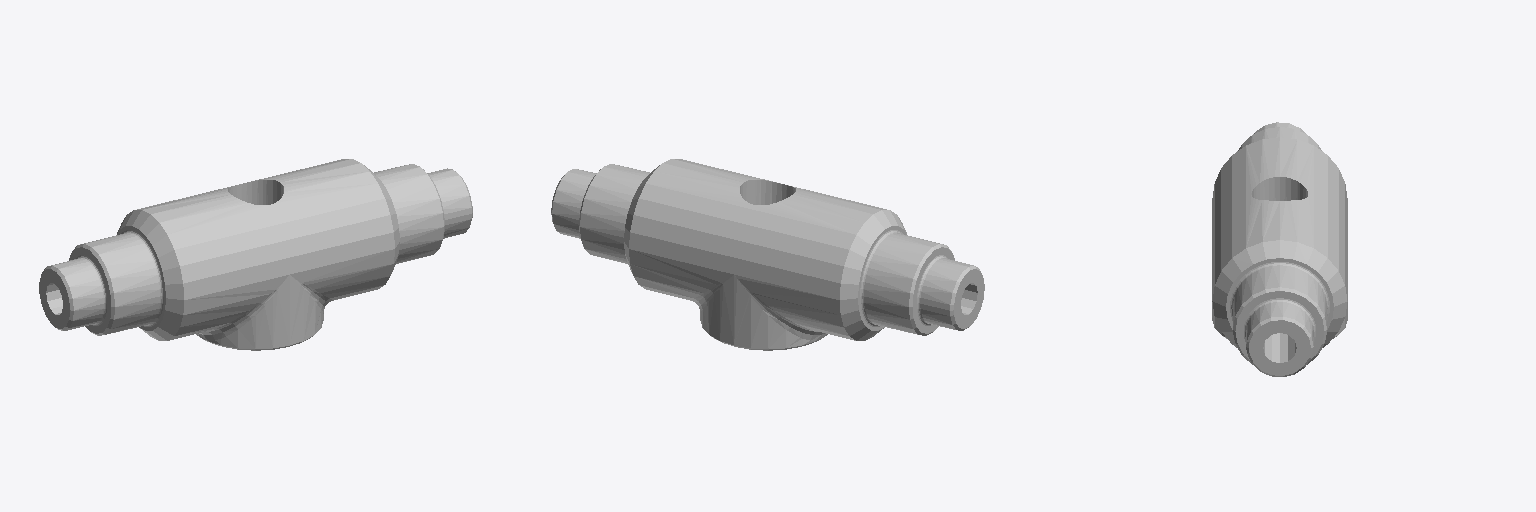
The model's file is left_hand_roll_link.obj.
The picture shows the model from 3 angles: view 1: azimuth 30°, elevation 25°; view 2: azimuth 150°, elevation 25°; view 3: azimuth 270°, elevation 25°; orthographic projection.
Parts seen in each view (by area): view 1: left_hand_roll_link; view 2: left_hand_roll_link; view 3: left_hand_roll_link.
Part boxes in pixels (x1,y1,x2,y2): left_hand_roll_link: (39, 159, 472, 350); left_hand_roll_link: (551, 159, 984, 350); left_hand_roll_link: (1212, 122, 1347, 376).
Size of the model in its own units: 0.0344 by 0.011 by 0.01.